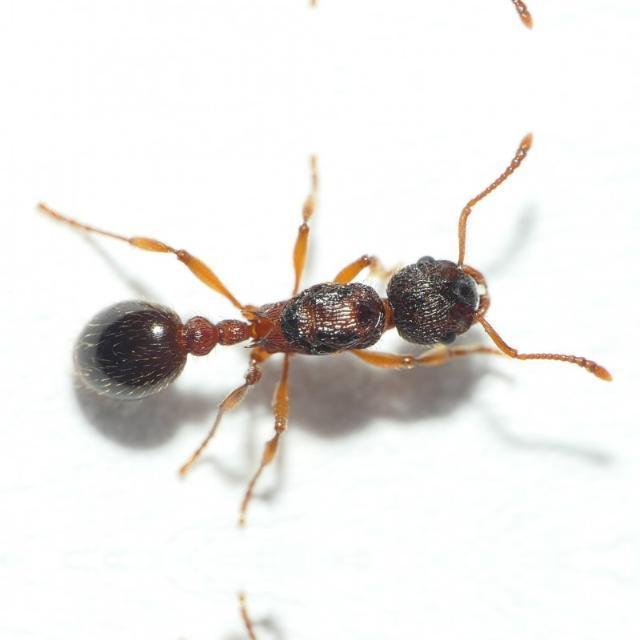Myrmica: (61, 196, 551, 428)
